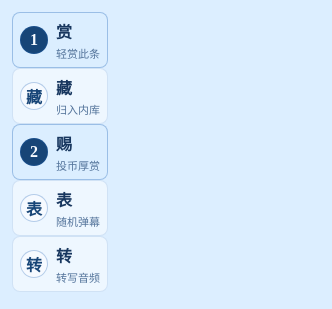
Test case: PetHoverShortcutSettings › paints the local order before committing on the next frame
Click the button "表 表 随机弹幕".
click(60, 208)  # box [12,180,108,236]
Wait 16 ms
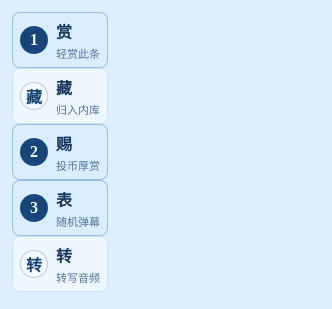
Expected: the text with class "assistant-settings__hover-shortcut-mark" reads "3", [30,199,38,216]
